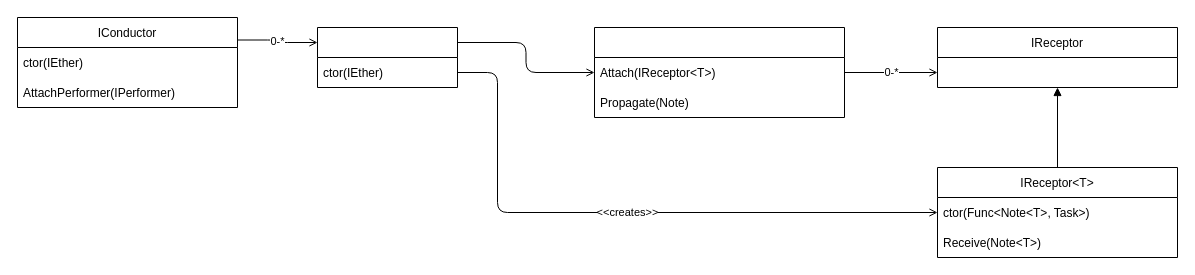
The diagram is 1195 pixels wide and 275 high, and some of its shapes have lost their labels. Here are the shapes that lost their labels. From the top down, the box of each, then its label:
(316, 26, 458, 88): IPerformer
(594, 26, 844, 118): IEther
